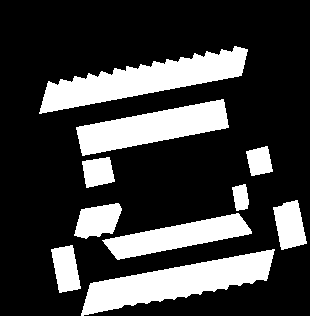parkingspot: (39, 46, 247, 113), (81, 249, 274, 315), (76, 99, 228, 155), (102, 213, 251, 259), (74, 203, 121, 238), (273, 200, 306, 249), (51, 245, 80, 292), (82, 157, 114, 187), (246, 146, 272, 175), (232, 184, 248, 210)
